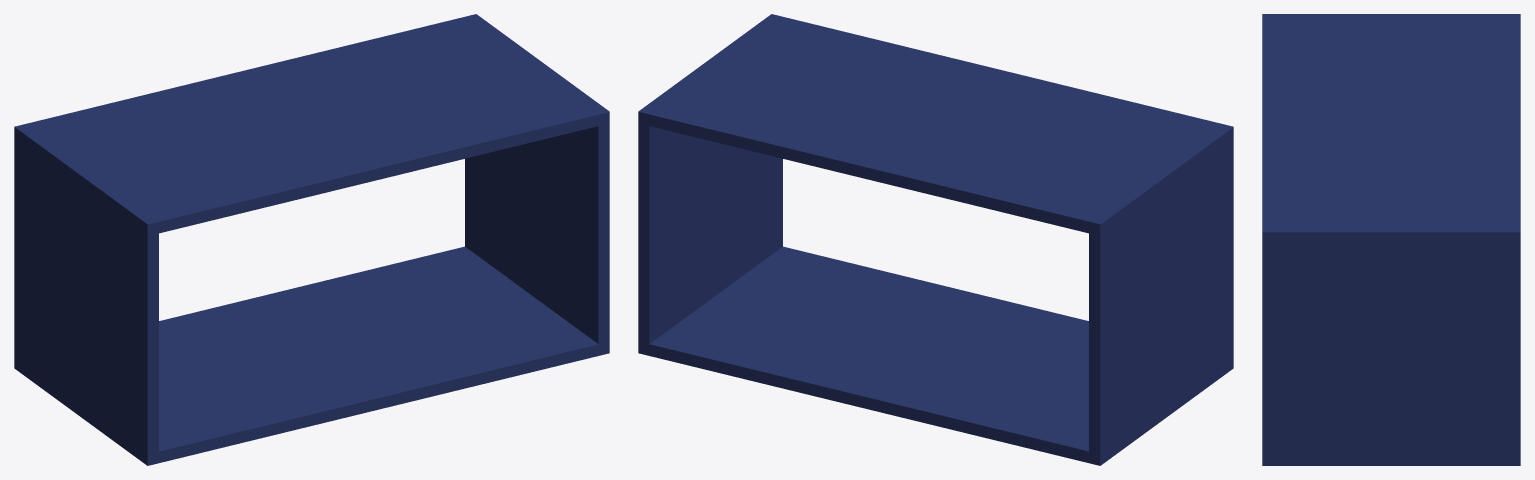
The model's file is MOD_2X1_A_O_AF.glb.
3 renders of one model, left to right at view 1: azimuth 30°, elevation 25°; view 2: azimuth 150°, elevation 25°; view 3: azimuth 270°, elevation 25°, orthographic. The views are drawn at different scales.
Size of the model in its own units: 720 by 360 by 360.
